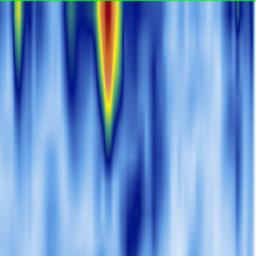defect: (89, 1, 124, 178), (8, 1, 31, 136), (61, 2, 83, 131), (148, 41, 162, 224), (126, 164, 150, 256), (226, 1, 251, 54)
